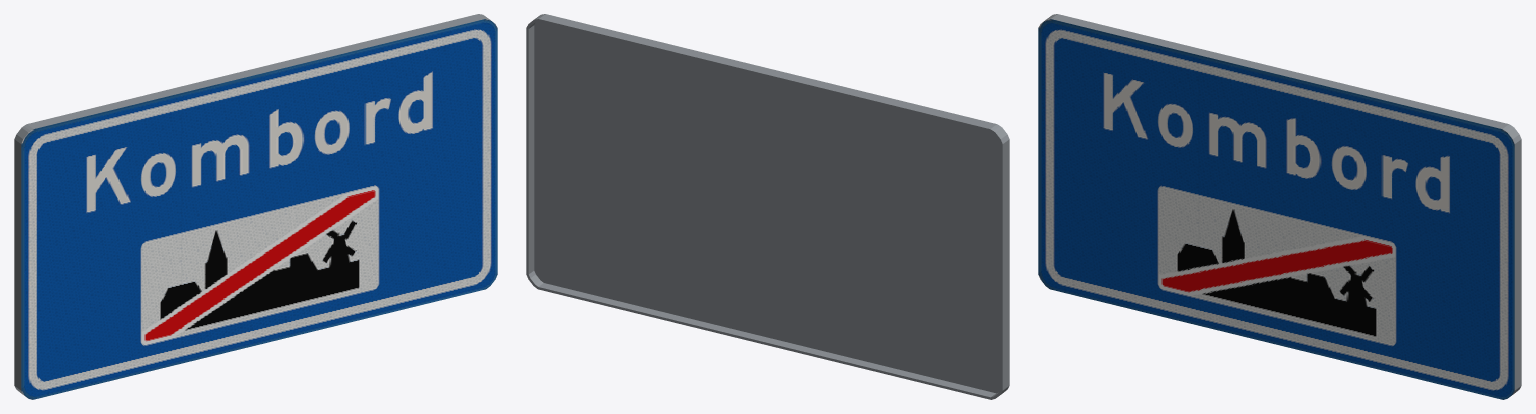
The picture shows the model from 3 angles, left to right: view 1: azimuth 30°, elevation 25°; view 2: azimuth 150°, elevation 25°; view 3: azimuth 330°, elevation 25°; orthographic projection.
Visible parts, largest first — view 1: cat_4ee00f23462d3e34; view 2: cat_4ee00f23462d3e34; view 3: cat_4ee00f23462d3e34.
Boxes of the visible parts, x1=… form: cat_4ee00f23462d3e34: x1=14, y1=14, x2=497, y2=399; cat_4ee00f23462d3e34: x1=526, y1=14, x2=1009, y2=399; cat_4ee00f23462d3e34: x1=1038, y1=14, x2=1521, y2=399.
Size of the model in its own units: 0.6 by 0.015 by 0.3256.
Materials: 2 (1 with a texture image).
